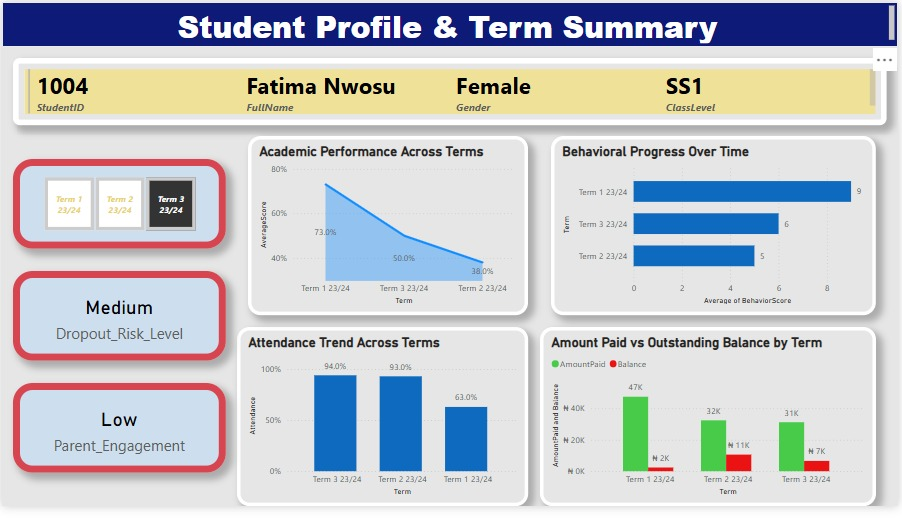

The dashboard page shown, as its layout file describes it:
{"tool":"powerbi","page":{"name":"Student_Profile","canvas":[1280,720],"ordinal":3},"visuals":[{"type":"multiRowCard","fields":{"Values":["vw_DropoutRisk.StudentID","vw_DropoutRisk.FullName","vw_DropoutRisk.Gender","vw_DropoutRisk.ClassLevel"]},"box":[16,80,1248,96],"z":0},{"type":"clusteredColumnChart","title":"Attendance Trend Across Terms","fields":{"Category":["vw_DropoutRisk.Term"],"Y":["vw_DropoutRisk.%averageattendance"]},"box":[336,464,416,256],"z":1000},{"type":"stackedAreaChart","title":"Academic Performance Across Terms","fields":{"Category":["vw_DropoutRisk.Term"],"Y":["vw_DropoutRisk.%averagescore"]},"box":[352,192,400,256],"z":2000},{"type":"actionButton","box":[0,0,100,40],"z":3000},{"type":"clusteredBarChart","title":"Behavioral Progress Over Time","fields":{"Category":["vw_DropoutRisk.Term"],"Y":["Avg(vw_DropoutRisk.BehaviorScore)"]},"box":[784,192,464,256],"z":4000},{"type":"clusteredColumnChart","title":"Amount Paid vs Outstanding Balance by Term","fields":{"Category":["vw_DropoutRisk.Term"],"Y":["Sum(vw_DropoutRisk.AmountPaid)","Sum(vw_DropoutRisk.Balance)"]},"box":[768,464,480,256],"z":5000},{"type":"card","fields":{"Values":["Min(vw_DropoutRisk.DropoutRiskLevel)"]},"box":[16,384,304,128],"z":6000},{"type":"card","fields":{"Values":["Max(vw_DropoutRisk.ParentEngagement)"]},"box":[16,544,304,128],"z":7000},{"type":"textbox","box":[0,0,1280,64],"z":8000},{"type":"slicer","fields":{"Values":["vw_DropoutRisk.Term"]},"box":[16,224,304,128],"z":9000}]}

Visuals, with their boxes in screenshot pixels (x1, y1, x2, y2), scaled from the page's 1280x720 canvas onto the 902x518 screenshot:
multiRowCard - vw_DropoutRisk.StudentID x vw_DropoutRisk.FullName: box(11, 58, 891, 127)
"Attendance Trend Across Terms" clusteredColumnChart: box(237, 334, 530, 517)
"Academic Performance Across Terms" stackedAreaChart: box(248, 138, 530, 322)
actionButton: box(0, 0, 70, 29)
"Behavioral Progress Over Time" clusteredBarChart: box(552, 138, 879, 322)
"Amount Paid vs Outstanding Balance by Term" clusteredColumnChart: box(541, 334, 879, 517)
card - Min(vw_DropoutRisk.DropoutRiskLevel): box(11, 276, 226, 368)
card - Max(vw_DropoutRisk.ParentEngagement): box(11, 391, 226, 483)
textbox: box(0, 0, 901, 46)
slicer - vw_DropoutRisk.Term: box(11, 161, 226, 253)
